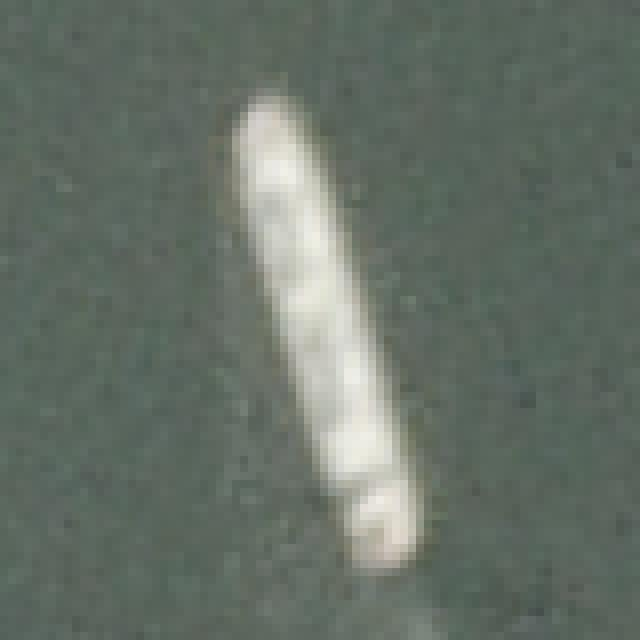ship: (216, 73, 470, 586)
